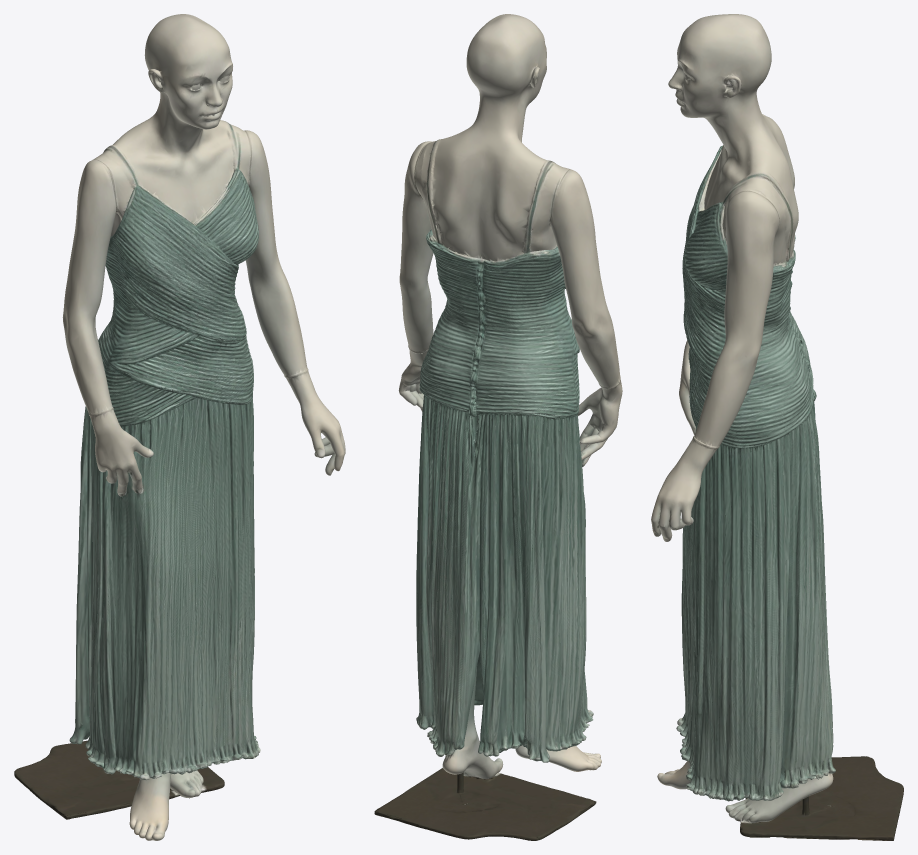
The picture shows the model from 3 angles, left to right: view 1: azimuth 30°, elevation 25°; view 2: azimuth 150°, elevation 25°; view 3: azimuth 270°, elevation 25°; orthographic projection. The views are drawn at different scales.
Visible parts, largest first — view 1: tripo_node_8f68d8f3-c760-4c5e-8867-339ab9650a08; view 2: tripo_node_8f68d8f3-c760-4c5e-8867-339ab9650a08; view 3: tripo_node_8f68d8f3-c760-4c5e-8867-339ab9650a08.
Part boxes in pixels (x1,y1,x2,y2): tripo_node_8f68d8f3-c760-4c5e-8867-339ab9650a08: (14, 14, 345, 840); tripo_node_8f68d8f3-c760-4c5e-8867-339ab9650a08: (374, 14, 622, 840); tripo_node_8f68d8f3-c760-4c5e-8867-339ab9650a08: (651, 14, 903, 840).
Size of the model in its own units: 0.3207 by 0.9809 by 0.2814.
Materials: 1 (1 with a texture image).
